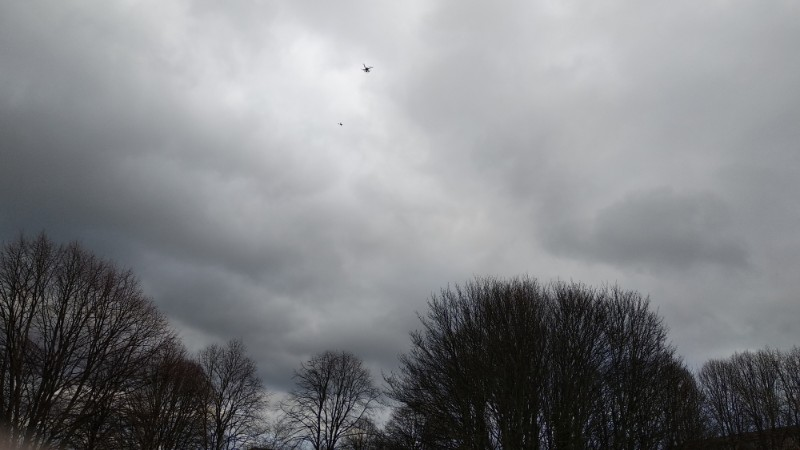drone: (360, 64, 375, 74)
